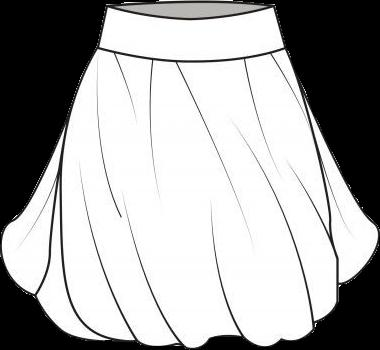Hemline: (1, 217, 379, 349)
Waistline: (96, 46, 284, 64), (106, 4, 273, 20)
